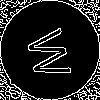W: (25, 25, 81, 82)
